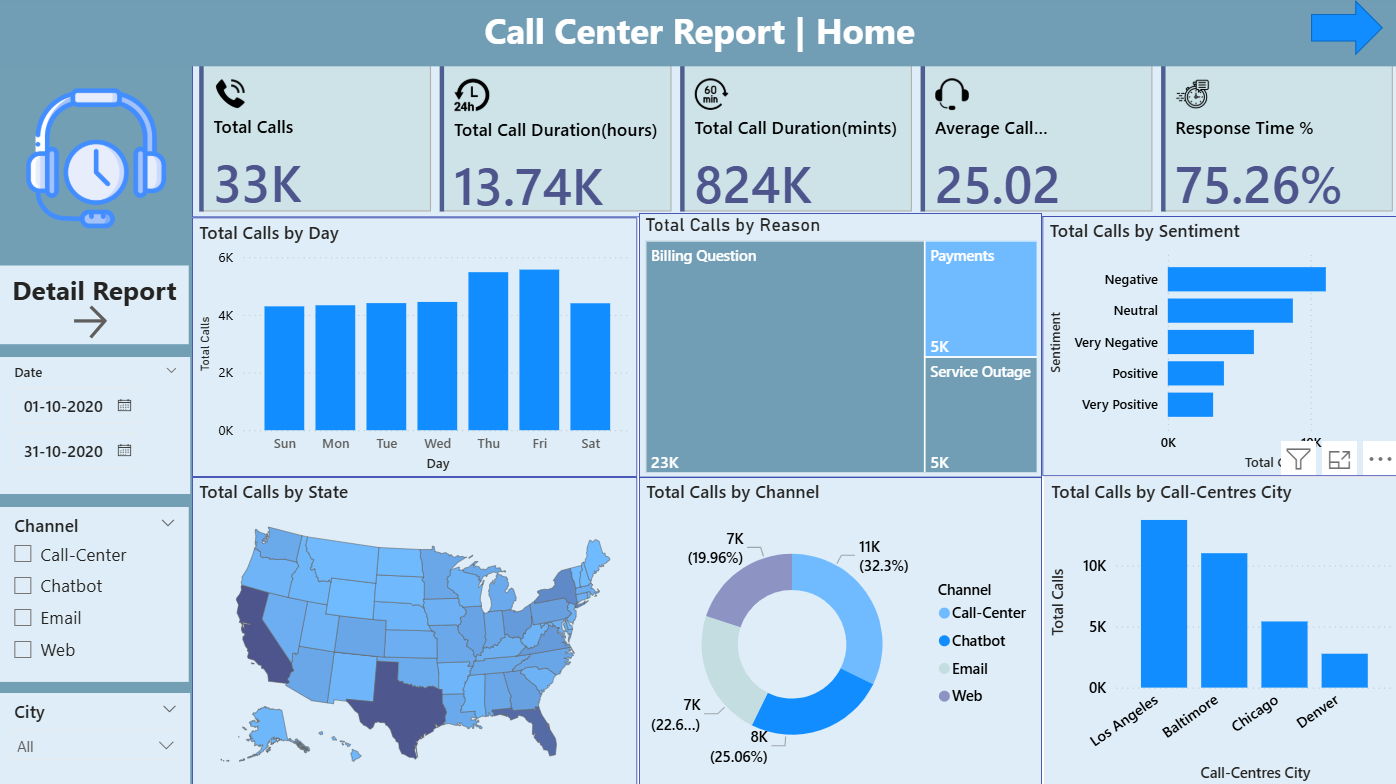

What the dashboard file says about the page in this screenshot:
{"tool":"powerbi","page":{"name":"Homepage","canvas":[1280,720],"ordinal":0},"visuals":[{"type":"shape","box":[0,60.5,175.7,659.5],"z":0},{"type":"cardVisual","fields":{"Data":["Calculated_Measures.Total Calls","Calculated_Measures.Total Call Duration(hours)","Calculated_Measures.Total Call Duration(mints)","Calculated_Measures.Average Call Duration(mints)","Calculated_Measures.Response Time %"]},"box":[175.7,50.4,1104.5,148.3],"z":1000},{"type":"textbox","box":[0,0,1280.2,60.5],"z":2000},{"type":"columnChart","fields":{"Category":["DateTable.Day"],"Y":["Calculated_Measures.Total Calls"]},"box":[175.7,198.7,407.5,237.6],"z":3000},{"type":"shapeMap","fields":{"Category":["Call_Center.State"],"Value":["Calculated_Measures.Total Calls"]},"box":[175.7,436.3,407.5,283.7],"z":4000},{"type":"treemap","fields":{"Group":["Call_Center.Reason"],"Values":["Calculated_Measures.Total Calls"]},"box":[584.6,194.4,368.6,241.9],"z":5000},{"type":"donutChart","fields":{"Y":["Calculated_Measures.Total Calls"],"Category":["Call_Center.Channel"]},"box":[584.6,436.3,368.6,283.7],"z":6000},{"type":"barChart","fields":{"Category":["Call_Center.Sentiment"],"Y":["Calculated_Measures.Total Calls"]},"box":[954,198,326,238],"z":7000},{"type":"clusteredColumnChart","fields":{"Category":["Call_Center.Call-Centres City"],"Y":["Calculated_Measures.Total Calls"]},"box":[954.7,436.3,325.4,283.7],"z":8000},{"type":"slicer","fields":{"Values":["DateTable.Date"]},"box":[0,326.9,174.2,125.3],"z":9000},{"type":"slicer","fields":{"Values":["Call_Center.City"]},"box":[0,633.6,174.2,86.4],"z":10000},{"type":"slicer","fields":{"Values":["Call_Center.Channel"]},"box":[0,463.7,172.8,159.8],"z":11000},{"type":"image","box":[0,74.9,175.7,138.2],"z":12000},{"type":"textbox","box":[0,243.4,172.8,72],"z":13000},{"type":"actionButton","box":[61.9,275,99.4,40.3],"z":14000},{"type":"shape","box":[1199.4,0,65.9,50.8],"z":14001}]}

Visuals, with their boxes in screenshot pixels (x1, y1, x2, y2), scaled from the page's 1280x720 canvas onto the 1396x784 screenshot:
shape: box=[0, 66, 192, 783]
cardVisual - Calculated_Measures.Total Calls x Calculated_Measures.Total Call Duration(hours): box=[192, 55, 1395, 216]
textbox: box=[0, 0, 1395, 66]
columnChart - DateTable.Day x Calculated_Measures.Total Calls: box=[192, 216, 636, 475]
shapeMap - Call_Center.State x Calculated_Measures.Total Calls: box=[192, 475, 636, 783]
treemap - Call_Center.Reason x Calculated_Measures.Total Calls: box=[638, 212, 1040, 475]
donutChart - Calculated_Measures.Total Calls x Call_Center.Channel: box=[638, 475, 1040, 783]
barChart - Call_Center.Sentiment x Calculated_Measures.Total Calls: box=[1040, 216, 1395, 475]
clusteredColumnChart - Call_Center.Call-Centres City x Calculated_Measures.Total Calls: box=[1041, 475, 1395, 783]
slicer - DateTable.Date: box=[0, 356, 190, 492]
slicer - Call_Center.City: box=[0, 690, 190, 783]
slicer - Call_Center.Channel: box=[0, 505, 188, 679]
image: box=[0, 82, 192, 232]
textbox: box=[0, 265, 188, 343]
actionButton: box=[68, 299, 176, 343]
shape: box=[1308, 0, 1380, 55]
